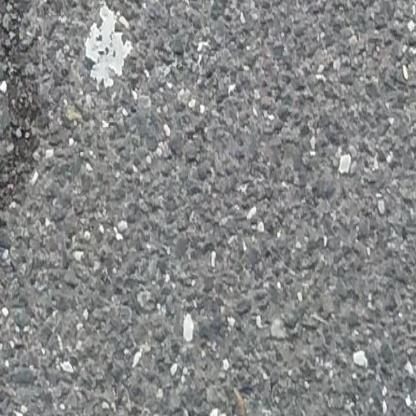Cracks: (0, 0, 41, 276)
